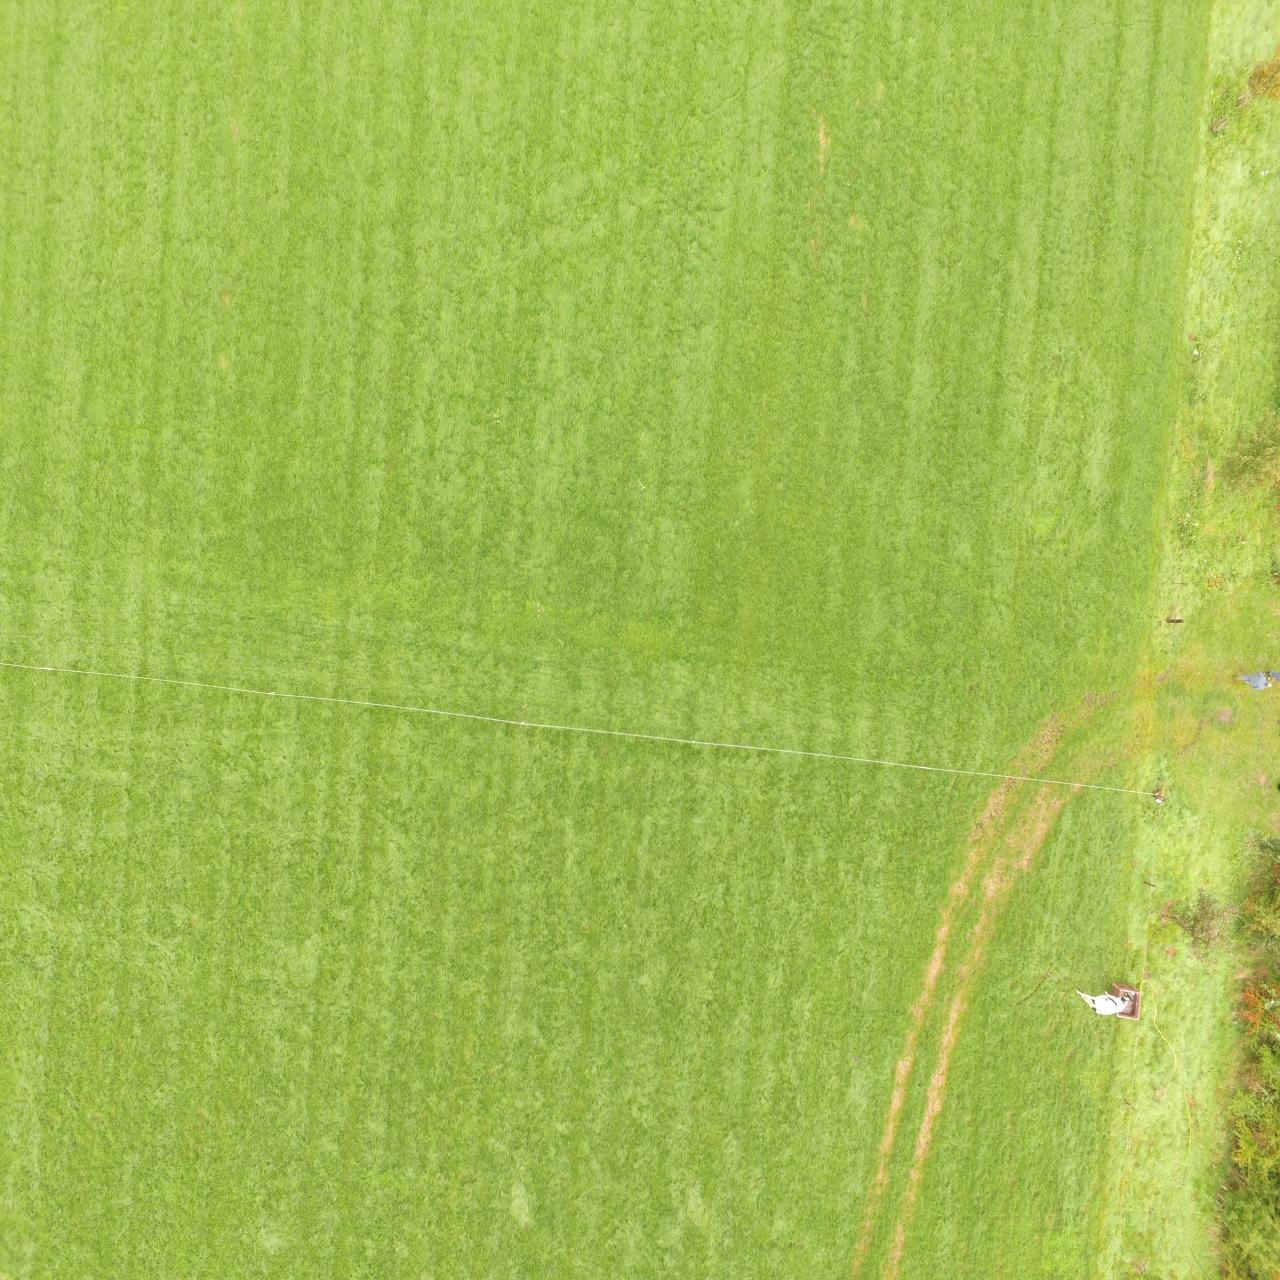cow: (1075, 989, 1132, 1015)
